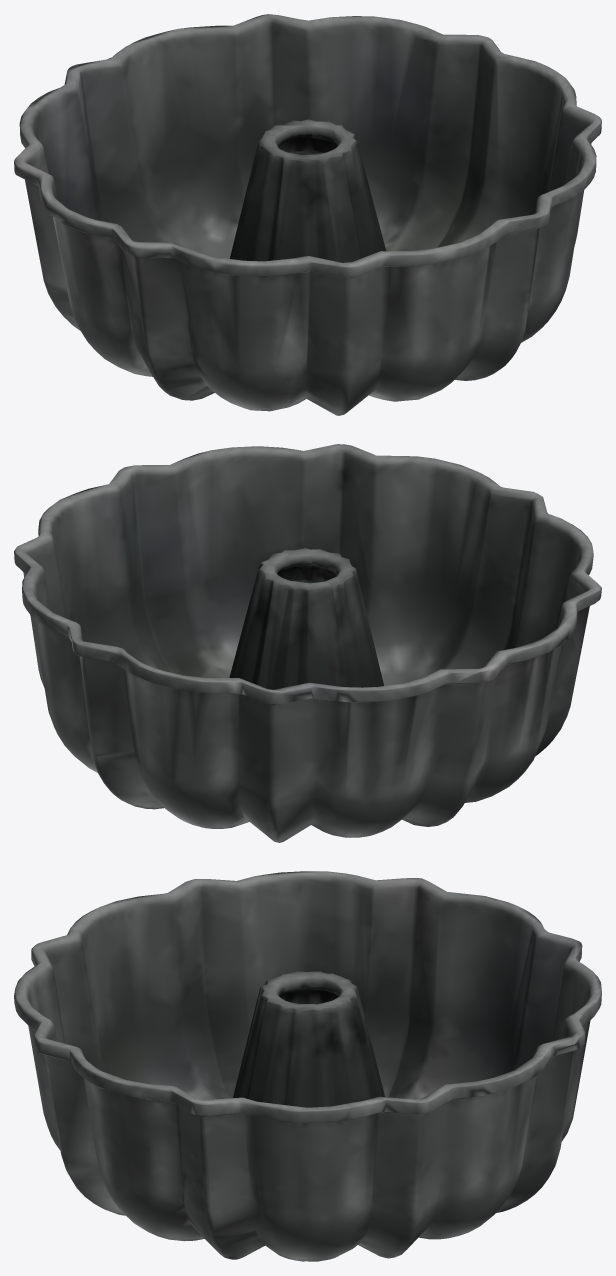
The model's file is Nordic_Ware_Original_Bundt_Pan-high.glb.
3 views of the same model, one above another, from view 1: azimuth 30°, elevation 25°; view 2: azimuth 150°, elevation 25°; view 3: azimuth 270°, elevation 25° (orthographic).
Visible parts, largest first — view 1: Nordic_Ware_Original_Bundt_Pan; view 2: Nordic_Ware_Original_Bundt_Pan; view 3: Nordic_Ware_Original_Bundt_Pan.
Part boxes in pixels (box(x1,y1,x2,y2)): Nordic_Ware_Original_Bundt_Pan: box(14, 14, 601, 415); Nordic_Ware_Original_Bundt_Pan: box(14, 444, 601, 842); Nordic_Ware_Original_Bundt_Pan: box(14, 871, 601, 1261).
Size of the model in its own units: 0.2637 by 0.1 by 0.2634.
1 material, 1 textured.
